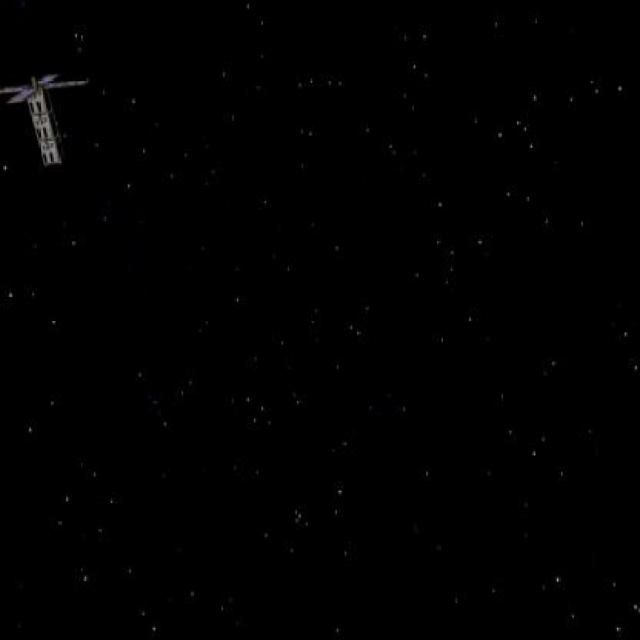medium_debris: (0, 64, 94, 173)
